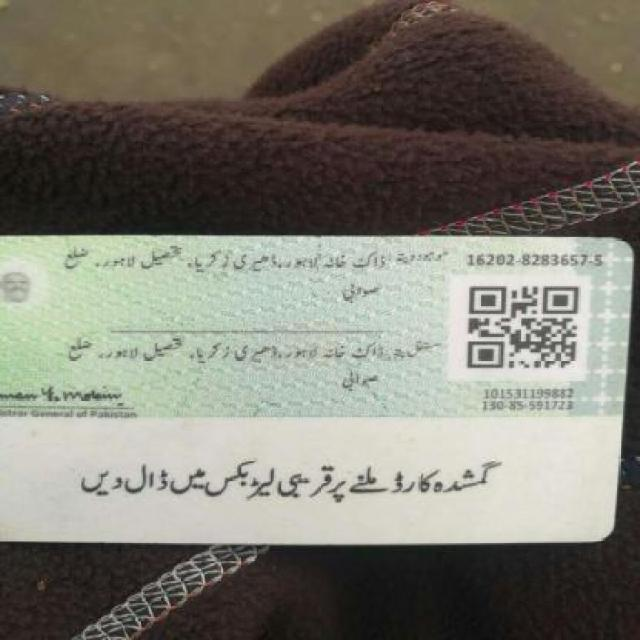Back: (6, 231, 628, 549)
